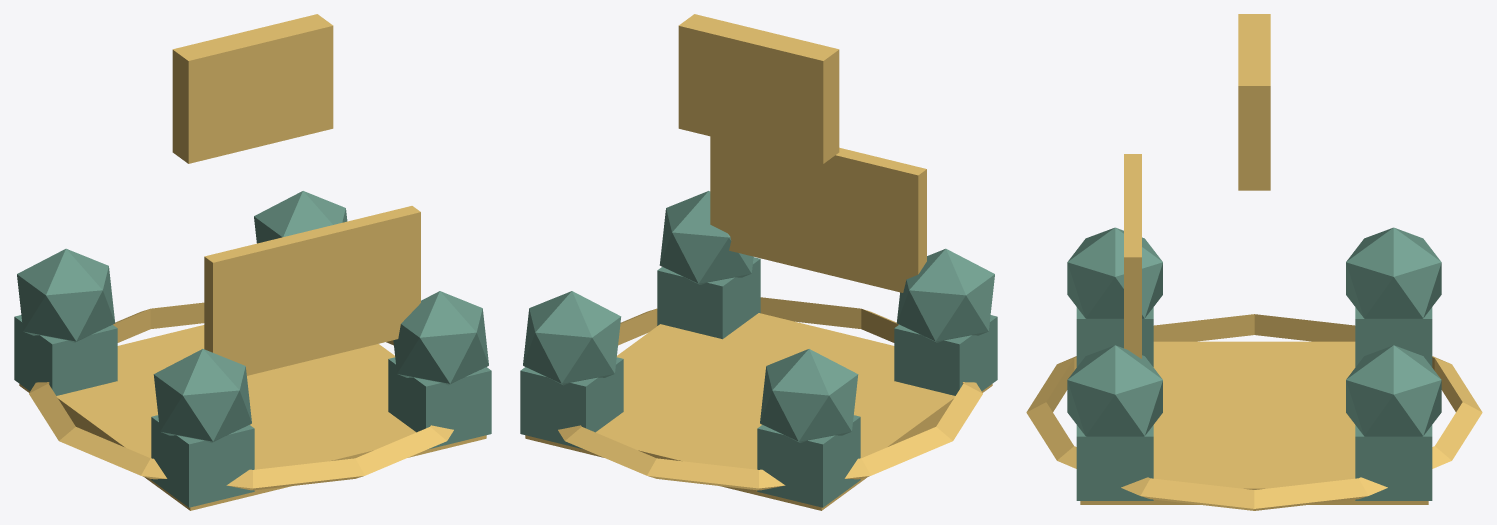
File: one-square-metre-action-massing.glb
The picture shows the model from 3 angles, left to right: view 1: azimuth 30°, elevation 25°; view 2: azimuth 150°, elevation 25°; view 3: azimuth 270°, elevation 25°; orthographic projection.
Parts seen in each view (by area): view 1: one-square-metre-action-gold-massing, one-square-metre-action-green-massing; view 2: one-square-metre-action-gold-massing, one-square-metre-action-green-massing; view 3: one-square-metre-action-gold-massing, one-square-metre-action-green-massing.
Part boxes in pixels (x1,y1,x2,y2): one-square-metre-action-gold-massing: [19, 14, 486, 510]; one-square-metre-action-green-massing: [14, 191, 491, 507]; one-square-metre-action-gold-massing: [525, 14, 992, 510]; one-square-metre-action-green-massing: [520, 191, 997, 507]; one-square-metre-action-gold-massing: [1026, 14, 1482, 510]; one-square-metre-action-green-massing: [1067, 227, 1441, 500].
Size of the model in its own units: 3.08 by 2.84 by 3.08.
